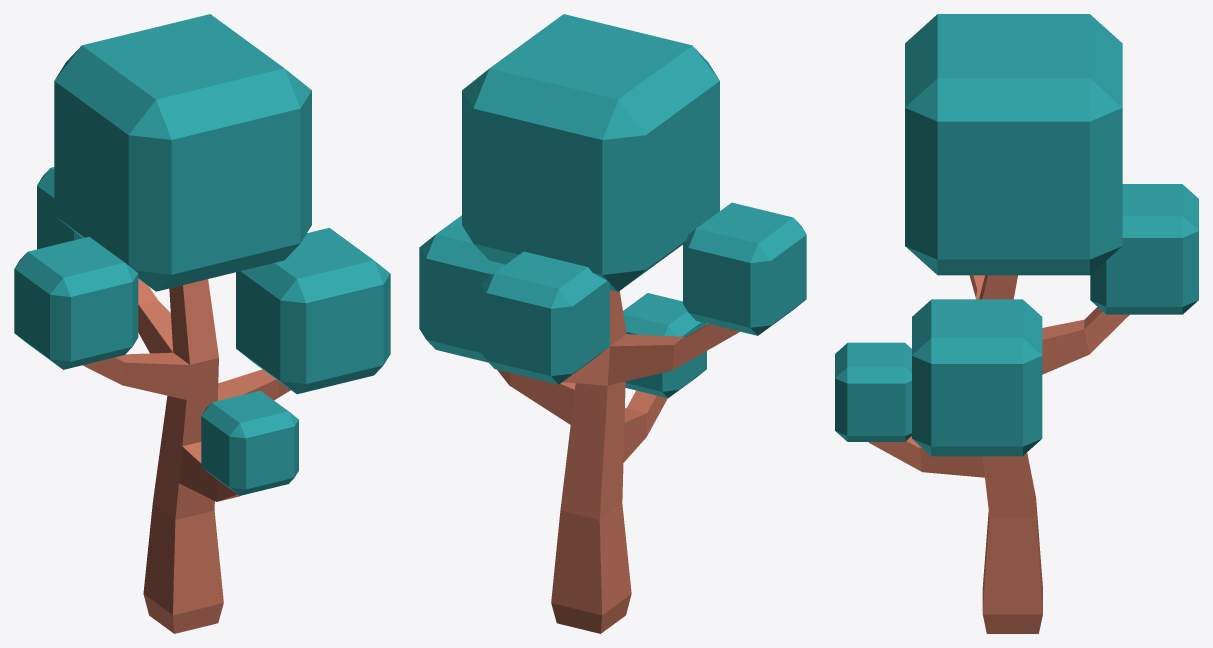
File: tree_detailed_dark.dae
3 renders of one model, left to right at view 1: azimuth 30°, elevation 25°; view 2: azimuth 150°, elevation 25°; view 3: azimuth 270°, elevation 25°, orthographic. The views are drawn at different scales.
Parts seen in each view (by area): view 1: tree_detailed_dark; view 2: tree_detailed_dark; view 3: tree_detailed_dark.
Boxes of the visible parts, x1=… form: tree_detailed_dark: x1=14, y1=14, x2=390, y2=633; tree_detailed_dark: x1=419, y1=14, x2=806, y2=633; tree_detailed_dark: x1=835, y1=14, x2=1198, y2=633.
Bounding box in the file's own units: 0.8471 × 1.33 × 0.7616.
